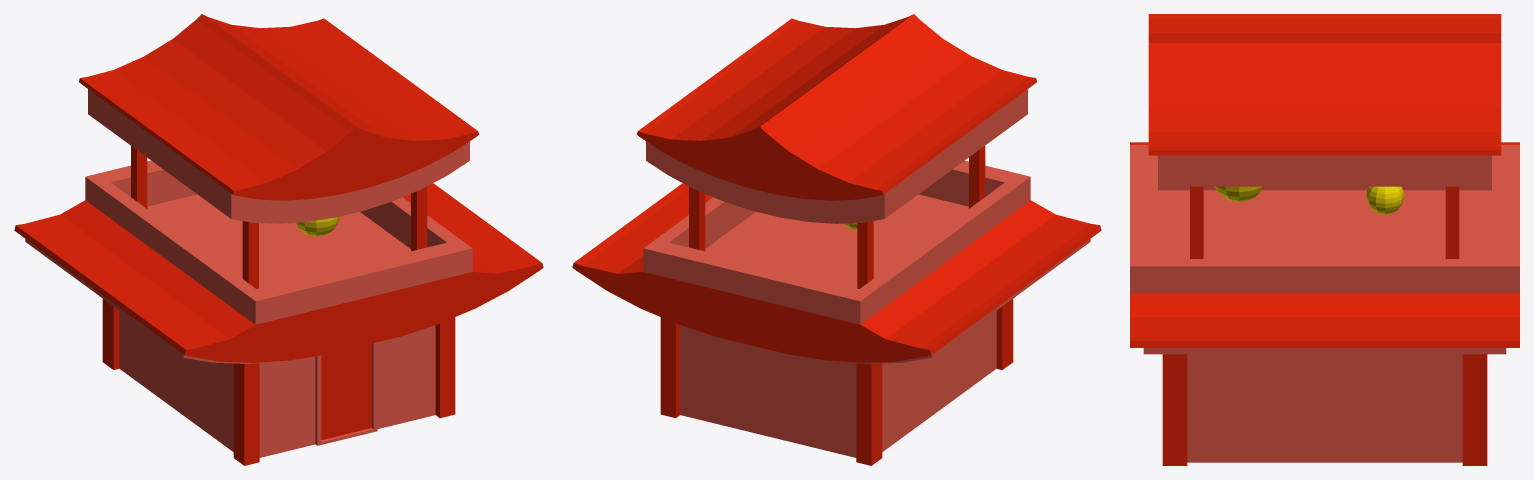
File: building.fbx
The picture shows the model from 3 angles, left to right: view 1: azimuth 30°, elevation 25°; view 2: azimuth 150°, elevation 25°; view 3: azimuth 270°, elevation 25°; orthographic projection. The views are drawn at different scales.
Visible parts, largest first — view 1: Cube; view 2: Cube; view 3: Cube.
Boxes of the visible parts, bbox=[...] form: Cube: bbox=[14, 14, 543, 465]; Cube: bbox=[572, 14, 1101, 465]; Cube: bbox=[1130, 14, 1519, 465].
Bounding box in the file's own units: 1479 × 1252 × 1215.
